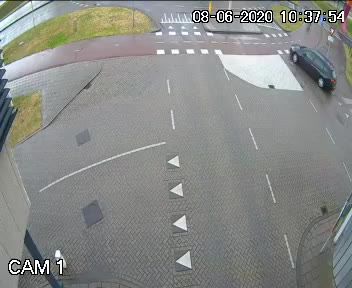car: (282, 33, 341, 103)
